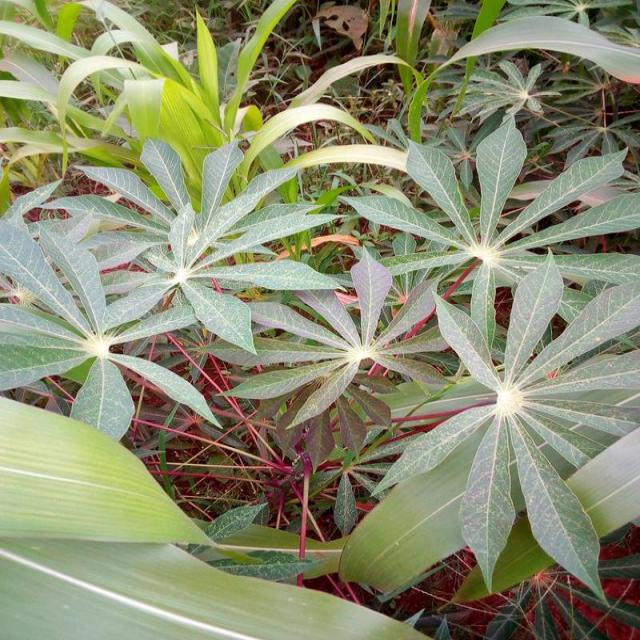cassava leaf: (0, 1, 638, 635), (337, 247, 638, 607), (0, 393, 434, 638)
